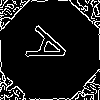A: (25, 25, 79, 73)
